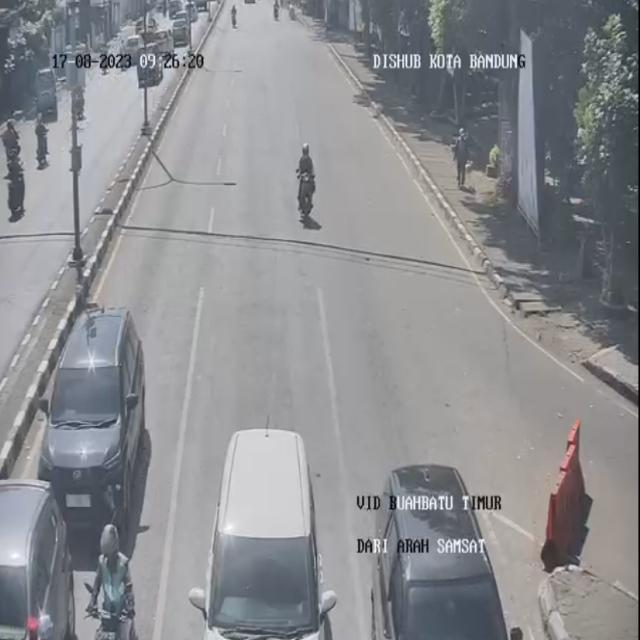cars: (200, 412, 336, 638), (36, 303, 150, 535), (372, 463, 514, 640), (0, 478, 68, 639)
motorcycle: (81, 518, 141, 640), (293, 138, 322, 226), (10, 610, 48, 640), (233, 1, 246, 32), (229, 4, 241, 33), (270, 0, 282, 25)
